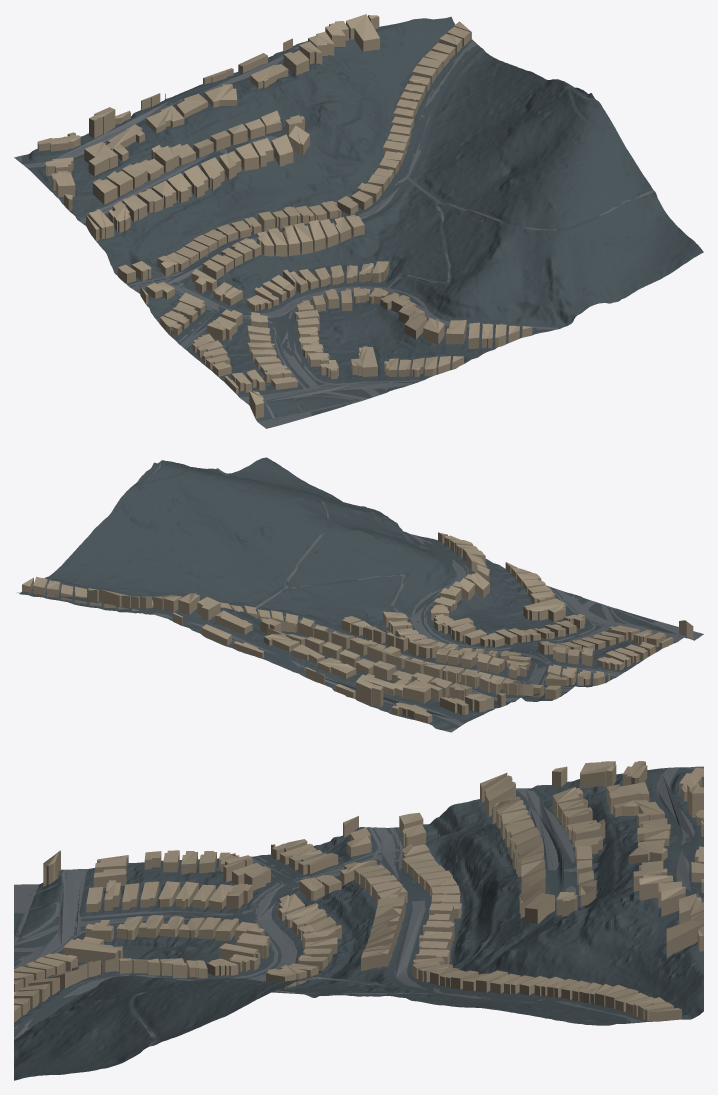
Rendered from epsg26910-1426-10877.lod0.glb.
3 renders of one model, top to bottom at view 1: azimuth 30°, elevation 25°; view 2: azimuth 150°, elevation 25°; view 3: azimuth 270°, elevation 25°, orthographic. The views are drawn at different scales.
Parts seen in each view (by area): view 1: epsg26910-1426-10877-lod0; view 2: epsg26910-1426-10877-lod0; view 3: epsg26910-1426-10877-lod0.
Boxes of the visible parts, <box> form: epsg26910-1426-10877-lod0: <box>14,14,703,428</box>; epsg26910-1426-10877-lod0: <box>17,457,703,732</box>; epsg26910-1426-10877-lod0: <box>14,761,703,1080</box>.
Bounding box in the file's own units: 384 × 123 × 384.
